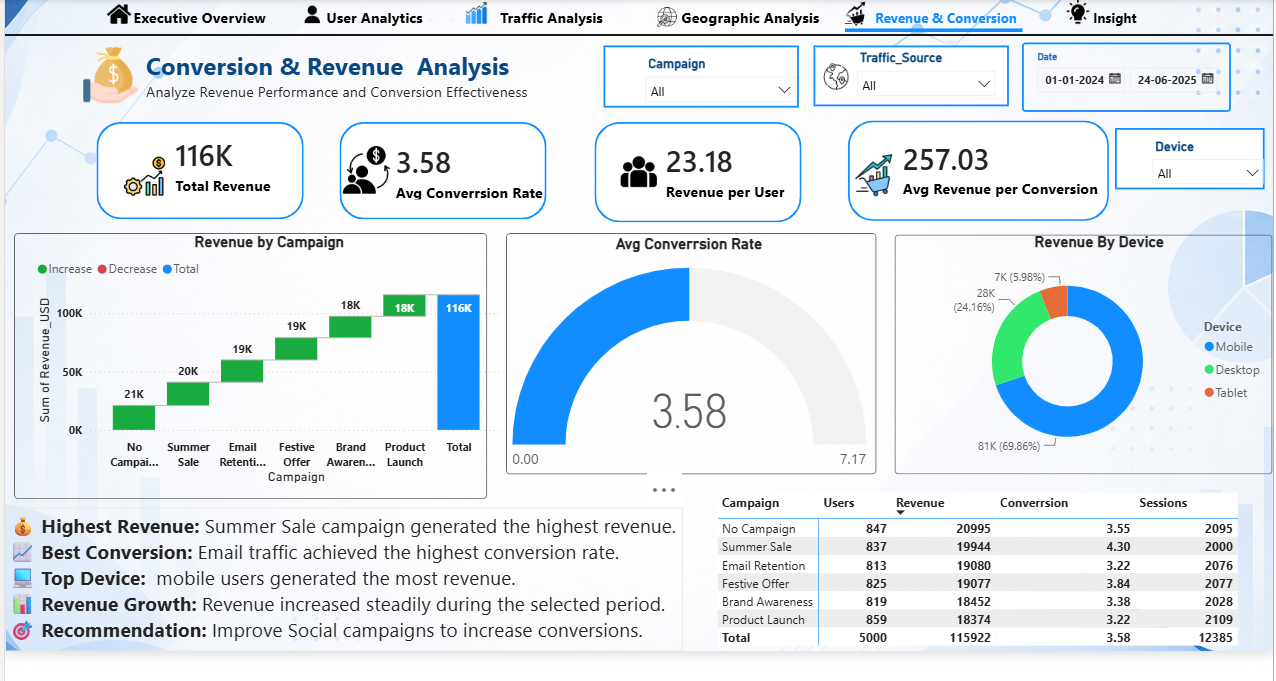

Layout of this report page (visuals, bound fields, positions):
{"tool":"powerbi","page":{"name":"Conversion & Revenue  Analysis","canvas":[1400,720],"ordinal":4},"visuals":[{"type":"shape","box":[660,51.4,215.7,68.6],"z":0},{"type":"shape","box":[892.9,51.4,215.7,67.1],"z":1000},{"type":"textbox","box":[151.1,49.4,451.9,73.4],"z":2000},{"type":"actionButton","box":[131.3,0,168.5,40.5],"z":3000},{"type":"actionButton","box":[337.5,0,140.3,40.3],"z":4000},{"type":"actionButton","box":[533.3,0,140.3,40.3],"z":5000},{"type":"actionButton","box":[956.2,0,166.9,40.5],"z":6000},{"type":"actionButton","box":[740.6,0,165.3,40.5],"z":7000},{"type":"actionButton","box":[1161.1,0,129.2,40.3],"z":8000},{"type":"shape","box":[0,33.1,1500.5,13.2],"z":9000},{"type":"shape","box":[927.8,28.2,196.3,12.7],"z":10000},{"type":"image","box":[112.5,0,26.4,33.3],"z":11000},{"type":"image","box":[329,3.2,19.4,27.6],"z":12000},{"type":"image","box":[508.9,3.2,24.3,24.3],"z":13000},{"type":"image","box":[706.9,8.3,47.2,23.6],"z":14000},{"type":"image","box":[914.1,1.6,48.6,29.2],"z":15000},{"type":"image","box":[1161.1,0,47.2,27.8],"z":16000},{"type":"slicer","fields":{"Values":["Digital_Marketing_Data.Date"]},"box":[1123.6,47.2,230.6,76.4],"z":17000},{"type":"slicer","fields":{"Values":["Digital_Marketing_Data.Traffic_Source"]},"box":[930,51.4,172.9,75.7],"z":18000},{"type":"image","box":[898.6,71.4,37.1,28.6],"z":19000},{"type":"shape","box":[369.3,135.8,228.6,107.7],"z":20000},{"type":"shape","box":[100.3,135.6,228.8,107.3],"z":21000},{"type":"shape","box":[650.9,135.8,228.6,111],"z":22000},{"type":"shape","box":[930.8,134.1,288.2,111],"z":23000},{"type":"cardVisual","fields":{"Data":["Digital_Marketing_Data.Avg Converrsion Rate"]},"box":[402.4,142.4,226.9,96.1],"z":24000},{"type":"cardVisual","fields":{"Data":["Digital_Marketing_Data.Revenue per User"]},"box":[700.6,137.5,225.2,104.3],"z":25000},{"type":"cardVisual","fields":{"Data":["Digital_Marketing_Data.Avg Revenue per Conversion"]},"box":[962.2,135.8,294.8,102.7],"z":26000},{"type":"cardVisual","fields":{"Data":["Sum(Digital_Marketing_Data.Revenue_USD)"]},"box":[158.2,131.3,213.2,104.5],"z":27000},{"type":"shape","box":[9.9,258.4,522.5,293.7],"z":28000},{"type":"shape","box":[553.2,258.4,409.1,266.6],"z":29000},{"type":"shape","box":[982.1,260,417.4,265],"z":30000},{"type":"slicer","fields":{"Values":["Digital_Marketing_Data.Campaign"]},"box":[697.1,57.1,185.7,77.1],"z":31000},{"type":"image","box":[131.3,162.4,46.6,66.4],"z":32000},{"type":"image","box":[665.8,170.6,67.9,39.7],"z":33000},{"type":"image","box":[83.3,53.7,67.8,62.1],"z":34000},{"type":"image","box":[362.7,162.3,72.9,53],"z":35000},{"type":"image","box":[917.5,168.9,82.8,51.3],"z":36000},{"type":"waterfallChart","title":" Revenue by Campaign","fields":{"Category":["Digital_Marketing_Data.Campaign"],"Y":["Sum(Digital_Marketing_Data.Revenue_USD)"]},"box":[29.7,258.4,523.9,281],"z":37000},{"type":"gauge","fields":{"Y":["Digital_Marketing_Data.Avg Converrsion Rate"]},"box":[554.8,260,400.8,279.9],"z":38000},{"type":"donutChart","title":"Revenue By Device","fields":{"Category":["Digital_Marketing_Data.Device"],"Y":["Sum(Digital_Marketing_Data.Revenue_USD)"]},"box":[1016.9,258.4,382.6,263.3],"z":39000},{"type":"textbox","box":[0,561.4,748.6,159],"z":40000},{"type":"shape","box":[1225.8,142.6,165.2,67.8],"z":41000},{"type":"slicer","fields":{"Values":["Digital_Marketing_Data.Device"]},"box":[1256.9,148.3,142.6,67.8],"z":42000},{"type":"pivotTable","fields":{"Rows":["Digital_Marketing_Data.Campaign"],"Values":["Sum(Digital_Marketing_Data.Users)","Sum(Digital_Marketing_Data.Revenue_USD)","Digital_Marketing_Data.Avg Converrsion Rate","Sum(Digital_Marketing_Data.Sessions)","Digital_Marketing_Data.Revenue per User"]},"box":[781.7,539.9,586.3,180.5],"z":43000}]}

Visuals, with their boxes on the page's 1400x720 design canvas (x1, y1, x2, y2). These are canvas units, not pixel positions in the 1276x681 screenshot, which may show the page scaled, cropped or inside an application window:
shape: crop(660, 51, 876, 120)
shape: crop(893, 51, 1109, 118)
textbox: crop(151, 49, 603, 123)
actionButton: crop(131, 0, 300, 40)
actionButton: crop(338, 0, 478, 40)
actionButton: crop(533, 0, 674, 40)
actionButton: crop(956, 0, 1123, 40)
actionButton: crop(741, 0, 906, 40)
actionButton: crop(1161, 0, 1290, 40)
shape: crop(0, 33, 1500, 46)
shape: crop(928, 28, 1124, 41)
image: crop(112, 0, 139, 33)
image: crop(329, 3, 348, 31)
image: crop(509, 3, 533, 28)
image: crop(707, 8, 754, 32)
image: crop(914, 2, 963, 31)
image: crop(1161, 0, 1208, 28)
slicer - Digital_Marketing_Data.Date: crop(1124, 47, 1354, 124)
slicer - Digital_Marketing_Data.Traffic_Source: crop(930, 51, 1103, 127)
image: crop(899, 71, 936, 100)
shape: crop(369, 136, 598, 244)
shape: crop(100, 136, 329, 243)
shape: crop(651, 136, 880, 247)
shape: crop(931, 134, 1219, 245)
cardVisual - Digital_Marketing_Data.Avg Converrsion Rate: crop(402, 142, 629, 238)
cardVisual - Digital_Marketing_Data.Revenue per User: crop(701, 138, 926, 242)
cardVisual - Digital_Marketing_Data.Avg Revenue per Conversion: crop(962, 136, 1257, 238)
cardVisual - Sum(Digital_Marketing_Data.Revenue_USD): crop(158, 131, 371, 236)
shape: crop(10, 258, 532, 552)
shape: crop(553, 258, 962, 525)
shape: crop(982, 260, 1400, 525)
slicer - Digital_Marketing_Data.Campaign: crop(697, 57, 883, 134)
image: crop(131, 162, 178, 229)
image: crop(666, 171, 734, 210)
image: crop(83, 54, 151, 116)
image: crop(363, 162, 436, 215)
image: crop(918, 169, 1000, 220)
" Revenue by Campaign" waterfallChart: crop(30, 258, 554, 539)
gauge - Digital_Marketing_Data.Avg Converrsion Rate: crop(555, 260, 956, 540)
"Revenue By Device" donutChart: crop(1017, 258, 1400, 522)
textbox: crop(0, 561, 749, 720)
shape: crop(1226, 143, 1391, 210)
slicer - Digital_Marketing_Data.Device: crop(1257, 148, 1400, 216)
pivotTable - Digital_Marketing_Data.Campaign x Sum(Digital_Marketing_Data.Users): crop(782, 540, 1368, 720)
